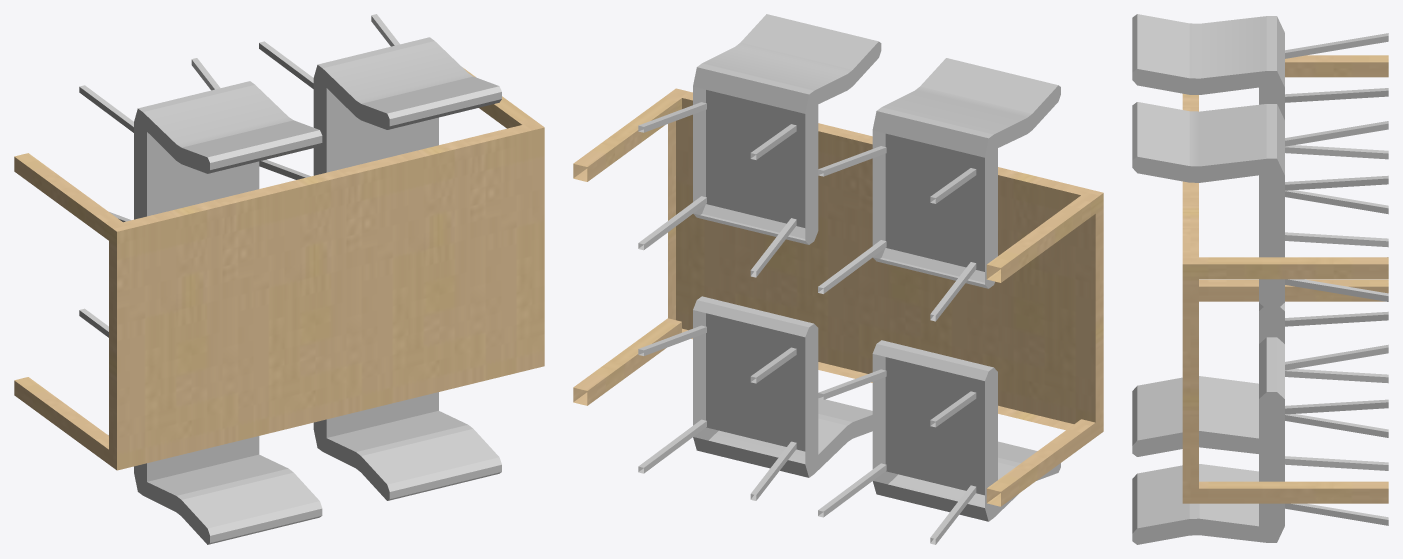
3 views of the same model, side by side, from view 1: azimuth 30°, elevation 25°; view 2: azimuth 150°, elevation 25°; view 3: azimuth 270°, elevation 25° (orthographic).
Visible parts, largest first — view 1: 桌, 椅子.001, 椅子, 椅子.002, 椅子.003; view 2: 桌, 椅子.001, 椅子, 椅子.003, 椅子.002; view 3: 桌, 椅子.001, 椅子.003, 椅子, 椅子.002.
Part boxes in pixels (x1,y1,x2,y2): 桌: [14, 68, 544, 470]; 椅子.001: [259, 14, 501, 179]; 椅子: [79, 58, 322, 222]; 椅子.002: [79, 308, 322, 544]; 椅子.003: [313, 392, 501, 500]; 桌: [573, 88, 1103, 506]; 椅子.001: [638, 14, 881, 277]; 椅子: [818, 58, 1060, 321]; 椅子.003: [638, 296, 872, 500]; 椅子.002: [818, 340, 1060, 544]; 桌: [1182, 55, 1388, 503]; 椅子.001: [1132, 102, 1388, 309]; 椅子.003: [1132, 337, 1388, 544]; 椅子: [1132, 14, 1388, 214]; 椅子.002: [1132, 257, 1388, 456].
Size of the model in its own units: 1.9 by 1.65 by 0.9878.
2 materials, 1 textured.
